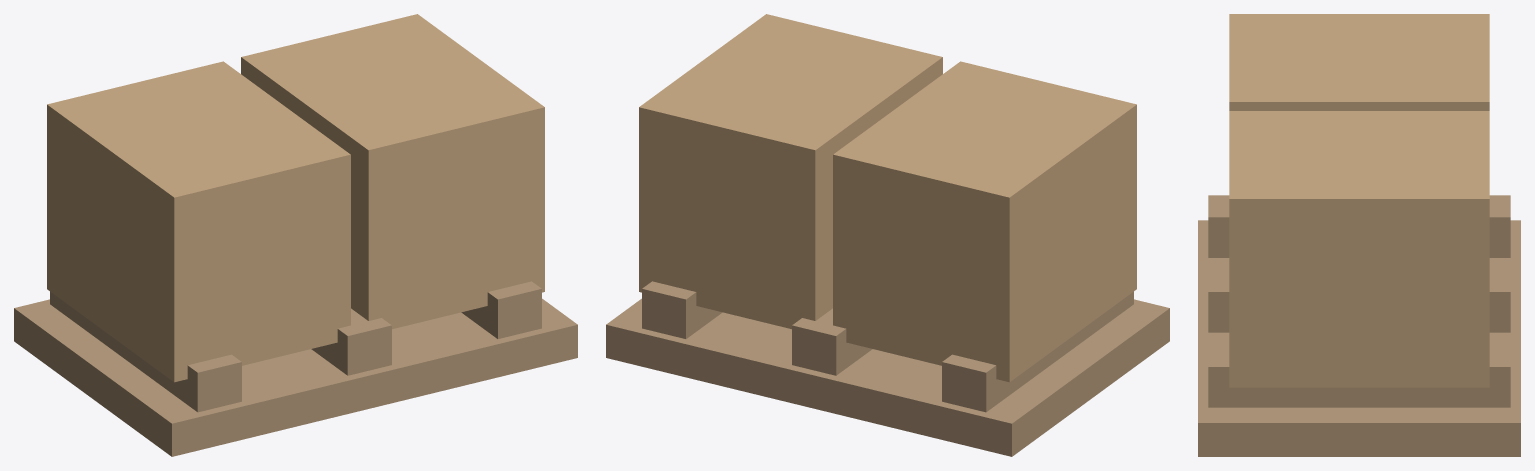
The model's file is pallet_stack_lod0.glb.
The picture shows the model from 3 angles, left to right: view 1: azimuth 30°, elevation 25°; view 2: azimuth 150°, elevation 25°; view 3: azimuth 270°, elevation 25°; orthographic projection. The views are drawn at different scales.
Visible parts, largest first — view 1: pallet-stack-node-4, pallet-stack-node-5, pallet-stack-node-0, pallet-stack-node-1, pallet-stack-node-2, pallet-stack-node-3; view 2: pallet-stack-node-4, pallet-stack-node-5, pallet-stack-node-0, pallet-stack-node-1, pallet-stack-node-2, pallet-stack-node-3; view 3: pallet-stack-node-5, pallet-stack-node-4, pallet-stack-node-0, pallet-stack-node-3, pallet-stack-node-1, pallet-stack-node-2.
Part boxes in pixels (box(x1,y1,x2,y2)): pallet-stack-node-4: box(47, 61, 350, 382); pallet-stack-node-5: box(241, 14, 544, 329); pallet-stack-node-0: box(14, 298, 577, 456); pallet-stack-node-1: box(50, 291, 241, 412); pallet-stack-node-2: box(311, 308, 391, 375); pallet-stack-node-3: box(461, 281, 541, 338); pallet-stack-node-4: box(833, 61, 1136, 382); pallet-stack-node-5: box(639, 14, 942, 329); pallet-stack-node-0: box(606, 298, 1169, 456); pallet-stack-node-1: box(942, 291, 1133, 412); pallet-stack-node-2: box(792, 308, 872, 375); pallet-stack-node-3: box(642, 281, 722, 338); pallet-stack-node-5: box(1229, 111, 1489, 387); pallet-stack-node-4: box(1229, 14, 1489, 110); pallet-stack-node-0: box(1198, 220, 1520, 456); pallet-stack-node-3: box(1208, 345, 1510, 407); pallet-stack-node-1: box(1208, 195, 1510, 257); pallet-stack-node-2: box(1208, 270, 1510, 332).
Size of the model in its own units: 2.3 by 1.32 by 1.55.
